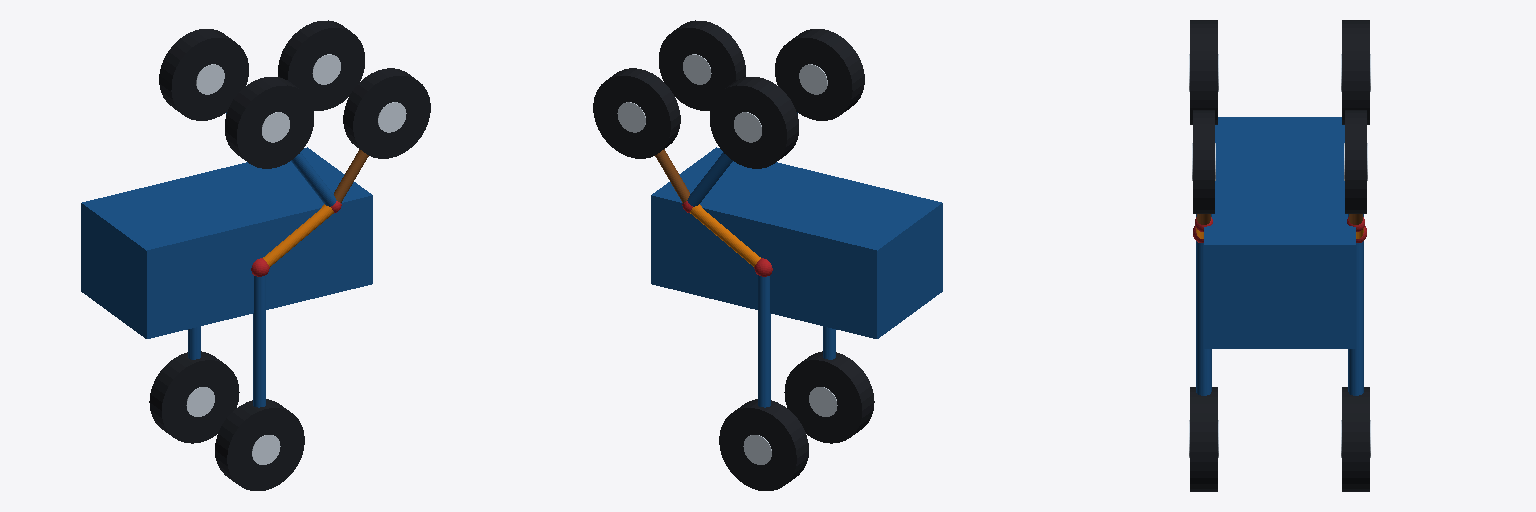
URDF robot description (engineer_single_side_schematic):
<?xml version="1.0"?>
<robot name="engineer_single_side_schematic">
  <!--
    Simplified mirrored suspension model inferred from the agreed geometry.

    Coordinate convention:
    - base_link origin is the left/lower pivot
    - x forward
    - y left
    - z up

    Zero joint state corresponds to the current six-wheel side-view geometry:
    - link1 = 240 mm
    - link2 = 120 mm
    - link3 = 160 mm
    - angle(link1, link2) = 120 deg, fixed
    - upper-pivot to omni center = 130 mm
    - angle(link3, omni branch) = 70 deg, fixed
    - wheel diameter = 110 mm

    The right rocker is mirrored onto the body right-side installation face.
    This URDF is a schematic kinematic model, not a production CAD export.
  -->

  <material name="pivot_red">
    <color rgba="0.70 0.18 0.20 1.0"/>
  </material>

  <material name="link_blue">
    <color rgba="0.13 0.36 0.58 1.0"/>
  </material>

  <material name="link_orange">
    <color rgba="0.82 0.47 0.08 1.0"/>
  </material>

  <material name="link_brown">
    <color rgba="0.50 0.31 0.15 1.0"/>
  </material>

  <material name="wheel_dark">
    <color rgba="0.15 0.16 0.18 1.0"/>
  </material>

  <material name="rim_light">
    <color rgba="0.82 0.86 0.90 1.0"/>
  </material>

  <link name="base_link">
    <visual>
      <origin xyz="0 0 0" rpy="0 0 0"/>
      <geometry>
        <sphere radius="0.012"/>
      </geometry>
      <material name="pivot_red"/>
    </visual>
  </link>

  <joint name="body_fixed_joint" type="fixed">
    <origin xyz="-0.0 -0.080 0.0" rpy="0 0 0"/>
    <parent link="base_link"/>
    <child link="body_link"/>
  </joint>

  <link name="body_link">
    <visual>
      <origin xyz="0 0 0" rpy="0 0 0"/>
      <geometry>
        <box size="0.320 0.160 0.120"/>
      </geometry>
      <material name="link_blue"/>
    </visual>
  </link>

  <joint name="right_pivot_fixed_joint" type="fixed">
    <origin xyz="0 -0.160 0" rpy="0 0 0"/>
    <parent link="base_link"/>
    <child link="right_base_pivot_link"/>
  </joint>

  <link name="right_base_pivot_link">
    <visual>
      <origin xyz="0 0 0" rpy="0 0 0"/>
      <geometry>
        <sphere radius="0.012"/>
      </geometry>
      <material name="pivot_red"/>
    </visual>
  </link>

  <joint name="rocker_joint" type="revolute">
    <origin xyz="0 0 0" rpy="0 -1.1702121132 0"/>
    <parent link="base_link"/>
    <child link="rocker_link"/>
    <axis xyz="0 1 0"/>
    <limit lower="-3.14159" upper="3.14159" effort="30" velocity="4.0"/>
  </joint>

  <link name="rocker_link">
    <!-- link1 branch to rear wheel center -->
    <visual>
      <origin xyz="-0.1105 0 -0.0467947647" rpy="0 -1.9713805404 0"/>
      <geometry>
        <cylinder radius="0.008" length="0.24"/>
      </geometry>
      <material name="link_blue"/>
    </visual>

    <!-- link2 branch to upper pivot -->
    <visual>
      <origin xyz="0.0478877275 0 -0.0361492124" rpy="0 2.2174096644 0"/>
      <geometry>
        <cylinder radius="0.008" length="0.12"/>
      </geometry>
      <material name="link_orange"/>
    </visual>

    <visual>
      <origin xyz="0.095775455 0 -0.0722984248" rpy="0 0 0"/>
      <geometry>
        <sphere radius="0.010"/>
      </geometry>
      <material name="pivot_red"/>
    </visual>
  </link>

  <joint name="rear_wheel_joint" type="continuous">
    <origin xyz="-0.221 0 -0.0935895293" rpy="0 0 0"/>
    <parent link="rocker_link"/>
    <child link="rear_wheel_link"/>
    <axis xyz="0 1 0"/>
  </joint>

  <link name="rear_wheel_link">
    <visual>
      <origin xyz="0 0 0" rpy="1.57079632679 0 0"/>
      <geometry>
        <cylinder radius="0.055" length="0.030"/>
      </geometry>
      <material name="wheel_dark"/>
    </visual>
    <visual>
      <origin xyz="0 0 0" rpy="1.57079632679 0 0"/>
      <geometry>
        <cylinder radius="0.020" length="0.032"/>
      </geometry>
      <material name="rim_light"/>
    </visual>
  </link>

  <joint name="upper_pivot_joint" type="revolute">
    <origin xyz="0.095775455 0 -0.0722984248" rpy="0 -1.2695027610 0"/>
    <parent link="rocker_link"/>
    <child link="front_assembly_link"/>
    <axis xyz="0 1 0"/>
    <limit lower="-3.14159" upper="3.14159" effort="30" velocity="4.0"/>
  </joint>

  <link name="front_assembly_link">
    <!-- link3 branch to front wheel center -->
    <visual>
      <origin xyz="0.0771122725 0 -0.0213001743" rpy="0 1.8402990878 0"/>
      <geometry>
        <cylinder radius="0.008" length="0.16"/>
      </geometry>
      <material name="link_blue"/>
    </visual>

    <!-- fixed omni branch from the same upper pivot -->
    <visual>
      <origin xyz="0.0051661463 0 -0.0647943742" rpy="0 3.0620295642 0"/>
      <geometry>
        <cylinder radius="0.007" length="0.13"/>
      </geometry>
      <material name="link_brown"/>
    </visual>
  </link>

  <joint name="front_wheel_joint" type="continuous">
    <origin xyz="0.1542245450 0 -0.0426003487" rpy="0 0 0"/>
    <parent link="front_assembly_link"/>
    <child link="front_wheel_link"/>
    <axis xyz="0 1 0"/>
  </joint>

  <link name="front_wheel_link">
    <visual>
      <origin xyz="0 0 0" rpy="1.57079632679 0 0"/>
      <geometry>
        <cylinder radius="0.055" length="0.030"/>
      </geometry>
      <material name="wheel_dark"/>
    </visual>
    <visual>
      <origin xyz="0 0 0" rpy="1.57079632679 0 0"/>
      <geometry>
        <cylinder radius="0.020" length="0.032"/>
      </geometry>
      <material name="rim_light"/>
    </visual>
  </link>

  <joint name="omni_wheel_joint" type="continuous">
    <origin xyz="0.0103322925 0 -0.1295887485" rpy="0 0 0"/>
    <parent link="front_assembly_link"/>
    <child link="omni_wheel_link"/>
    <axis xyz="0 1 0"/>
  </joint>

  <link name="omni_wheel_link">
    <visual>
      <origin xyz="0 0 0" rpy="1.57079632679 0 0"/>
      <geometry>
        <cylinder radius="0.055" length="0.024"/>
      </geometry>
      <material name="wheel_dark"/>
    </visual>
    <visual>
      <origin xyz="0 0 0" rpy="1.57079632679 0 0"/>
      <geometry>
        <cylinder radius="0.020" length="0.026"/>
      </geometry>
      <material name="rim_light"/>
    </visual>
  </link>

  <joint name="right_rocker_joint" type="revolute">
    <origin xyz="0 0 0" rpy="0 -1.1702121132 0"/>
    <parent link="right_base_pivot_link"/>
    <child link="right_rocker_link"/>
    <axis xyz="0 1 0"/>
    <limit lower="-3.14159" upper="3.14159" effort="30" velocity="4.0"/>
  </joint>

  <link name="right_rocker_link">
    <visual>
      <origin xyz="-0.1105 0 -0.0467947647" rpy="0 -1.9713805404 0"/>
      <geometry>
        <cylinder radius="0.008" length="0.24"/>
      </geometry>
      <material name="link_blue"/>
    </visual>

    <visual>
      <origin xyz="0.0478877275 0 -0.0361492124" rpy="0 2.2174096644 0"/>
      <geometry>
        <cylinder radius="0.008" length="0.12"/>
      </geometry>
      <material name="link_orange"/>
    </visual>

    <visual>
      <origin xyz="0.095775455 0 -0.0722984248" rpy="0 0 0"/>
      <geometry>
        <sphere radius="0.010"/>
      </geometry>
      <material name="pivot_red"/>
    </visual>
  </link>

  <joint name="right_rear_wheel_joint" type="continuous">
    <origin xyz="-0.221 0 -0.0935895293" rpy="0 0 0"/>
    <parent link="right_rocker_link"/>
    <child link="right_rear_wheel_link"/>
    <axis xyz="0 1 0"/>
  </joint>

  <link name="right_rear_wheel_link">
    <visual>
      <origin xyz="0 0 0" rpy="1.57079632679 0 0"/>
      <geometry>
        <cylinder radius="0.055" length="0.030"/>
      </geometry>
      <material name="wheel_dark"/>
    </visual>
    <visual>
      <origin xyz="0 0 0" rpy="1.57079632679 0 0"/>
      <geometry>
        <cylinder radius="0.020" length="0.032"/>
      </geometry>
      <material name="rim_light"/>
    </visual>
  </link>

  <joint name="right_upper_pivot_joint" type="revolute">
    <origin xyz="0.095775455 0 -0.0722984248" rpy="0 -1.2695027610 0"/>
    <parent link="right_rocker_link"/>
    <child link="right_front_assembly_link"/>
    <axis xyz="0 1 0"/>
    <limit lower="-3.14159" upper="3.14159" effort="30" velocity="4.0"/>
  </joint>

  <link name="right_front_assembly_link">
    <visual>
      <origin xyz="0.0771122725 0 -0.0213001743" rpy="0 1.8402990878 0"/>
      <geometry>
        <cylinder radius="0.008" length="0.16"/>
      </geometry>
      <material name="link_blue"/>
    </visual>

    <visual>
      <origin xyz="0.0051661463 0 -0.0647943742" rpy="0 3.0620295642 0"/>
      <geometry>
        <cylinder radius="0.007" length="0.13"/>
      </geometry>
      <material name="link_brown"/>
    </visual>
  </link>

  <joint name="right_front_wheel_joint" type="continuous">
    <origin xyz="0.1542245450 0 -0.0426003487" rpy="0 0 0"/>
    <parent link="right_front_assembly_link"/>
    <child link="right_front_wheel_link"/>
    <axis xyz="0 1 0"/>
  </joint>

  <link name="right_front_wheel_link">
    <visual>
      <origin xyz="0 0 0" rpy="1.57079632679 0 0"/>
      <geometry>
        <cylinder radius="0.055" length="0.030"/>
      </geometry>
      <material name="wheel_dark"/>
    </visual>
    <visual>
      <origin xyz="0 0 0" rpy="1.57079632679 0 0"/>
      <geometry>
        <cylinder radius="0.020" length="0.032"/>
      </geometry>
      <material name="rim_light"/>
    </visual>
  </link>

  <joint name="right_omni_wheel_joint" type="continuous">
    <origin xyz="0.0103322925 0 -0.1295887485" rpy="0 0 0"/>
    <parent link="right_front_assembly_link"/>
    <child link="right_omni_wheel_link"/>
    <axis xyz="0 1 0"/>
  </joint>

  <link name="right_omni_wheel_link">
    <visual>
      <origin xyz="0 0 0" rpy="1.57079632679 0 0"/>
      <geometry>
        <cylinder radius="0.055" length="0.024"/>
      </geometry>
      <material name="wheel_dark"/>
    </visual>
    <visual>
      <origin xyz="0 0 0" rpy="1.57079632679 0 0"/>
      <geometry>
        <cylinder radius="0.020" length="0.026"/>
      </geometry>
      <material name="rim_light"/>
    </visual>
  </link>
</robot>

--- What the picture shows (computed from the rendered views, not written in the file) ---
Views: 3 orthographic renders of the robot side by side, from view 1: azimuth 30°, elevation 25°; view 2: azimuth 150°, elevation 25°; view 3: azimuth 270°, elevation 25°.
Robot: engineer_single_side_schematic — 13 links, 12 joints (4 revolute, 6 continuous, 2 fixed); root link base_link; default pose: every joint at zero.
Links seen in each view (by area): view 1: body_link, right_front_wheel_link, front_wheel_link, right_rear_wheel_link, rear_wheel_link, right_omni_wheel_link, omni_wheel_link, right_rocker_link, right_front_assembly_link; view 2: body_link, front_wheel_link, right_front_wheel_link, rear_wheel_link, right_rear_wheel_link, omni_wheel_link, right_omni_wheel_link, rocker_link, front_assembly_link; view 3: body_link, rear_wheel_link, right_rear_wheel_link, front_wheel_link, right_front_wheel_link, omni_wheel_link, right_omni_wheel_link, rocker_link, right_rocker_link.
Boxes of the visible links, x1,y1,x2,y2 form: body_link: [81, 147, 372, 338]; right_front_wheel_link: [225, 77, 313, 168]; front_wheel_link: [159, 29, 248, 120]; right_rear_wheel_link: [215, 399, 304, 490]; rear_wheel_link: [149, 351, 239, 443]; right_omni_wheel_link: [343, 68, 430, 158]; omni_wheel_link: [278, 20, 364, 110]; right_rocker_link: [253, 201, 341, 407]; right_front_assembly_link: [291, 149, 368, 206]; body_link: [651, 147, 942, 338]; front_wheel_link: [710, 77, 798, 168]; right_front_wheel_link: [775, 29, 864, 120]; rear_wheel_link: [719, 399, 808, 490]; right_rear_wheel_link: [784, 351, 874, 443]; omni_wheel_link: [593, 68, 680, 158]; right_omni_wheel_link: [659, 20, 745, 110]; rocker_link: [682, 201, 770, 407]; front_assembly_link: [655, 149, 732, 206]; body_link: [1204, 117, 1355, 348]; rear_wheel_link: [1341, 387, 1370, 491]; right_rear_wheel_link: [1189, 387, 1218, 491]; front_wheel_link: [1341, 20, 1370, 124]; right_front_wheel_link: [1189, 20, 1218, 124]; omni_wheel_link: [1344, 110, 1367, 213]; right_omni_wheel_link: [1192, 110, 1215, 213]; rocker_link: [1347, 217, 1364, 395]; right_rocker_link: [1195, 217, 1212, 395].
Size in the robot's own frame: 0.3945 by 0.192 by 0.5419 metres.
Geometry: primitives only (box / cylinder / sphere), no mesh files.
